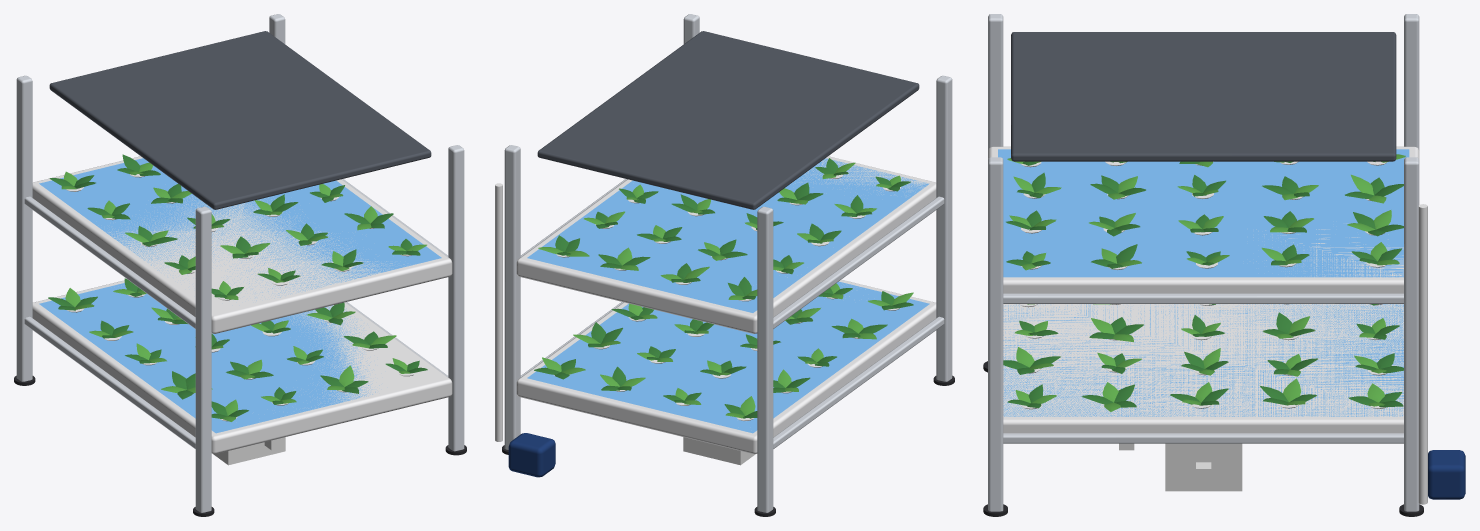
File: HydroRack2.fbx
3 renders of one model, left to right at view 1: azimuth 30°, elevation 25°; view 2: azimuth 150°, elevation 25°; view 3: azimuth 270°, elevation 25°, orthographic. The views are drawn at different scales.
Parts seen in each view (by area): view 1: Body__Water, Body__MetalDark, Body__White, Body__Chrome, Body__LeafDark, Body__Leaf, Origin__Pivot; view 2: Body__Water, Body__MetalDark, Body__White, Body__Chrome, Body__LeafDark, Body__Leaf, Body__BlueDark, Origin__Pivot; view 3: Body__Water, Body__White, Body__MetalDark, Body__Chrome, Body__LeafDark, Body__Leaf, Origin__Pivot, Body__BlueDark.
Boxes of the visible parts, x1,y1,x2,y2 form: Body__Water: [39, 158, 441, 433]; Body__MetalDark: [49, 31, 431, 209]; Body__White: [32, 156, 452, 453]; Body__Chrome: [16, 14, 464, 512]; Body__LeafDark: [48, 154, 427, 418]; Body__Leaf: [61, 162, 426, 421]; Origin__Pivot: [213, 437, 285, 465]; Body__Water: [527, 158, 929, 433]; Body__MetalDark: [537, 31, 919, 209]; Body__White: [495, 156, 936, 453]; Body__Chrome: [504, 14, 952, 512]; Body__LeafDark: [534, 158, 913, 418]; Body__Leaf: [538, 162, 913, 418]; Body__BlueDark: [508, 433, 555, 477]; Origin__Pivot: [683, 437, 755, 465]; Body__Water: [998, 149, 1409, 416]; Body__White: [988, 146, 1427, 504]; Body__MetalDark: [1011, 32, 1396, 161]; Body__Chrome: [988, 14, 1419, 511]; Body__LeafDark: [1003, 161, 1403, 408]; Body__Leaf: [1007, 154, 1405, 411]; Origin__Pivot: [1165, 443, 1242, 491]; Body__BlueDark: [1428, 450, 1465, 499].
Bounding box in the file's own units: 4.77 × 5.55 × 6.26.
